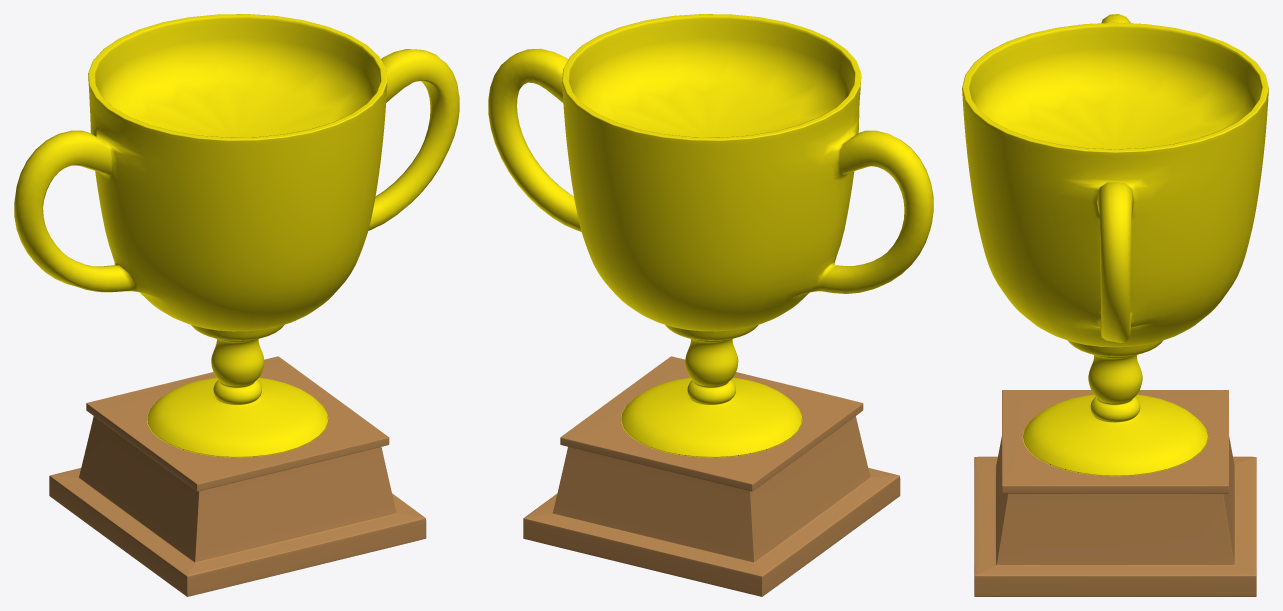
The model's file is Trophy_4.fbx.
3 renders of one model, left to right at view 1: azimuth 30°, elevation 25°; view 2: azimuth 150°, elevation 25°; view 3: azimuth 270°, elevation 25°, orthographic. The views are drawn at different scales.
Visible parts, largest first — view 1: trophy; view 2: trophy; view 3: trophy.
Boxes of the visible parts, bbox=[...] form: trophy: bbox=[14, 14, 459, 596]; trophy: bbox=[488, 14, 933, 596]; trophy: bbox=[962, 14, 1268, 596].
Bounding box in the file's own units: 39.16 × 37.38 × 23.08.
